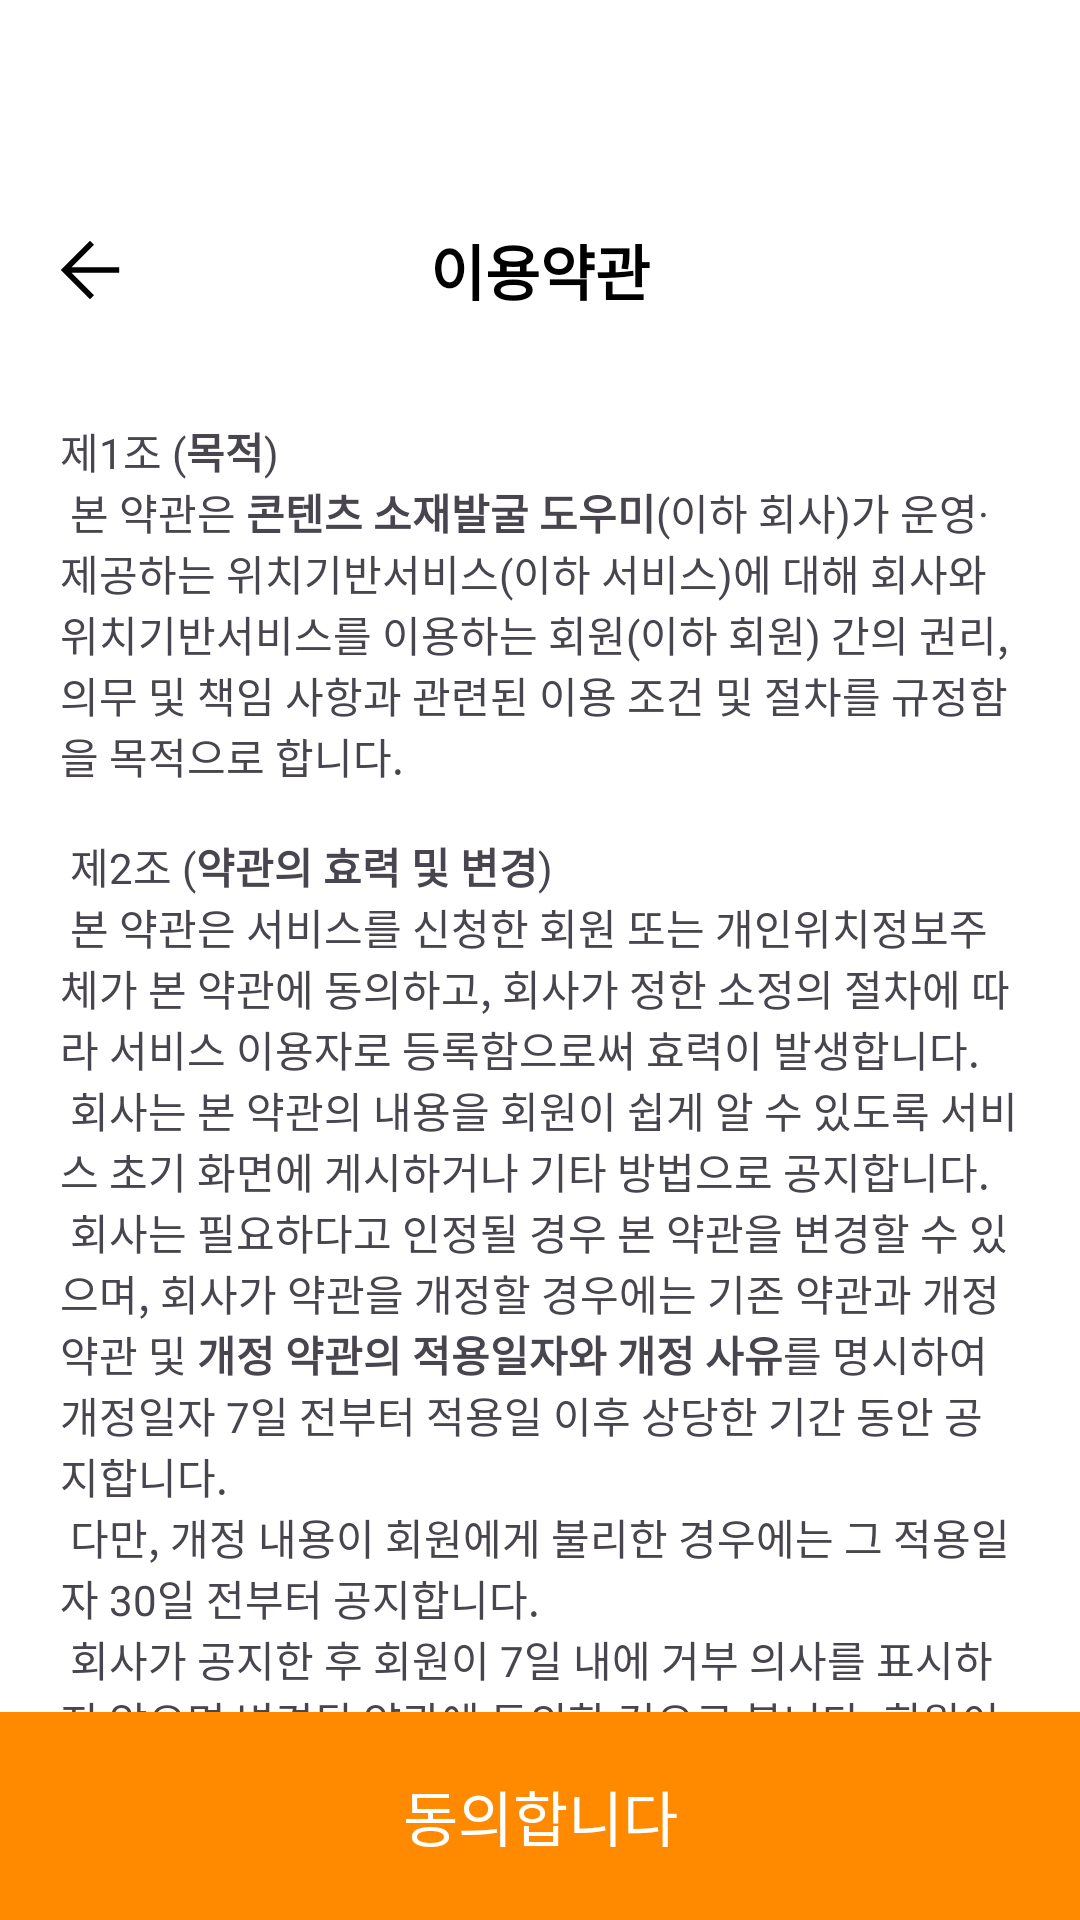

Icon bounding boxes for this 1080w x 1920h phone screenshot, format (x1, y1, x2, y2):
arrow back: (61, 241, 120, 299)
